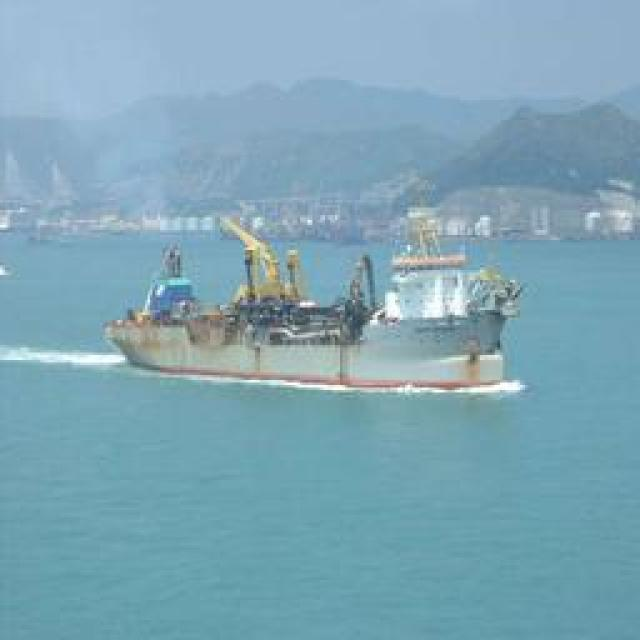CIV_Ship: (98, 205, 540, 395)
